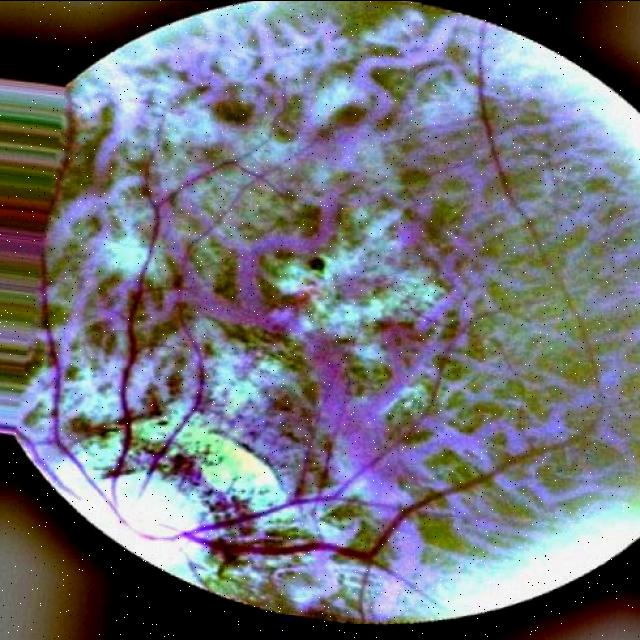Nerves: (136, 488, 432, 566), (107, 196, 162, 526), (142, 330, 201, 487), (54, 409, 80, 464), (46, 328, 63, 405)
